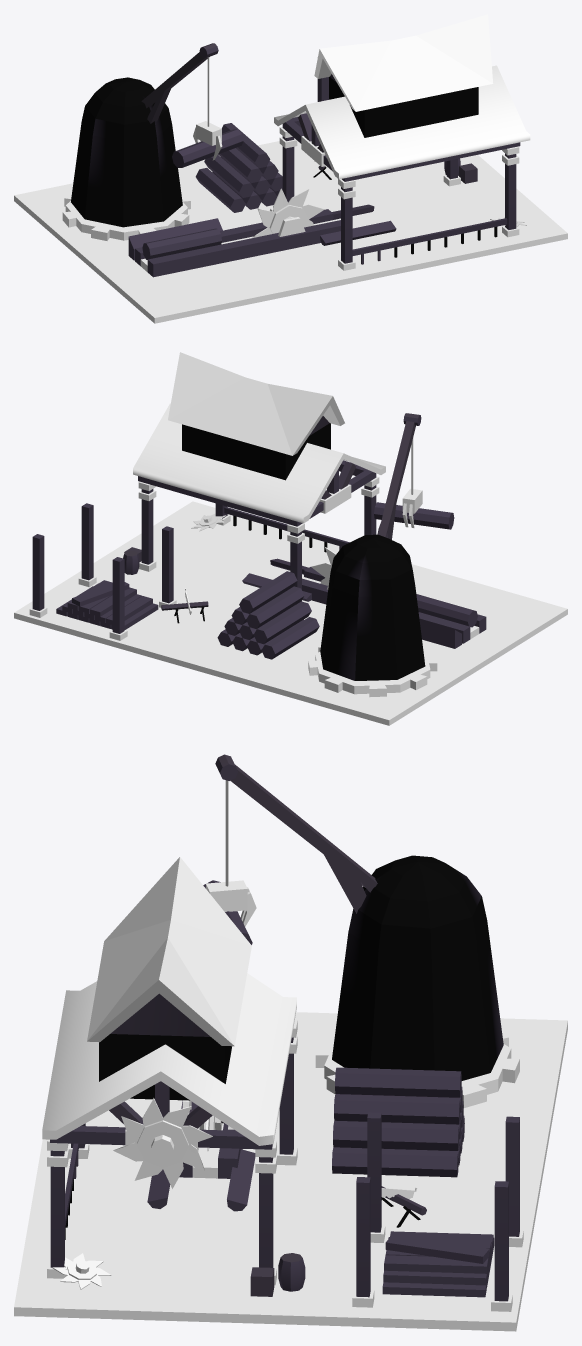
Rendered from LumberMillAnimated.fbx.
The picture shows the model from 3 angles, top to bottom: view 1: azimuth 30°, elevation 25°; view 2: azimuth 150°, elevation 25°; view 3: azimuth 270°, elevation 25°; orthographic projection. The views are drawn at different scales.
Parts seen in each view (by area): view 1: LumberMill, Grua_Madera, Grua_engranaje, Sierra, Madera, Grua_brazo, Grua_madera, Grua_gancho; view 2: LumberMill, Grua_Madera, Grua_engranaje, Grua_brazo, Madera, Grua_madera, Grua_gancho; view 3: LumberMill, Grua_Madera, Grua_brazo, Grua_engranaje, Grua_gancho.
Boxes of the visible parts, x1,y1,x2,y2 form: LumberMill: (14,14,567,323); Grua_Madera: (71,77,182,227); Grua_engranaje: (62,192,190,240); Sierra: (252,188,324,237); Madera: (142,228,221,259); Grua_brazo: (141,43,218,123); Grua_madera: (172,129,243,167); Grua_gancho: (193,121,222,160); LumberMill: (14,352,567,725); Grua_Madera: (320,534,425,680); Grua_engranaje: (308,646,437,697); Grua_brazo: (377,413,421,539); Madera: (416,594,477,627); Grua_madera: (374,502,454,529); Grua_gancho: (402,488,422,527); LumberMill: (14,857,567,1331); Grua_Madera: (332,855,503,1080); Grua_brazo: (215,754,377,913); Grua_engranaje: (315,1033,519,1107); Grua_gancho: (206,880,256,926).
Bounding box in the file's own units: 796 × 418 × 587.
Materials: 1 (1 with a texture image).
